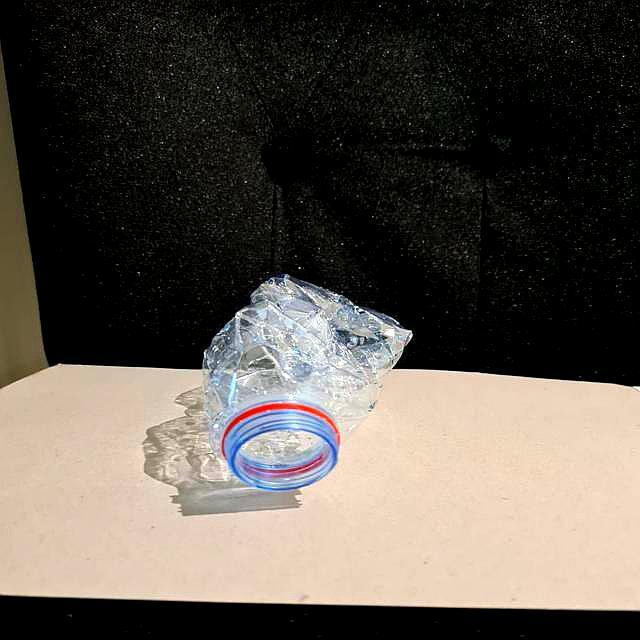Non-biodegradable: (197, 273, 413, 507)
